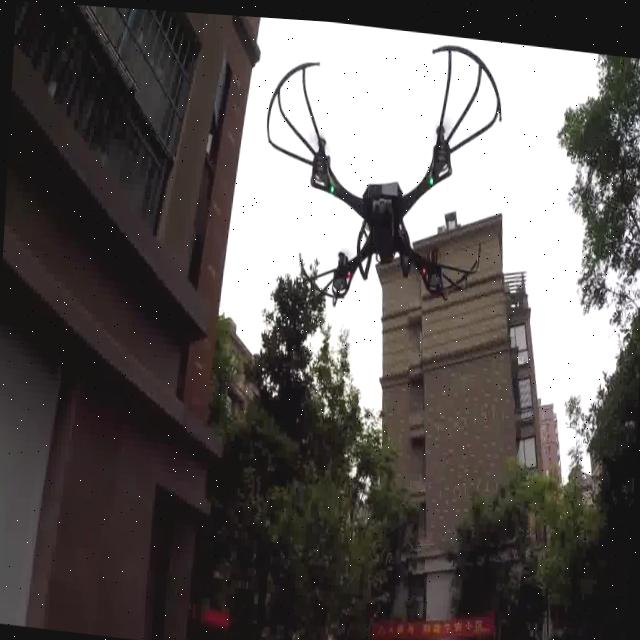drone: (259, 14, 513, 331)
